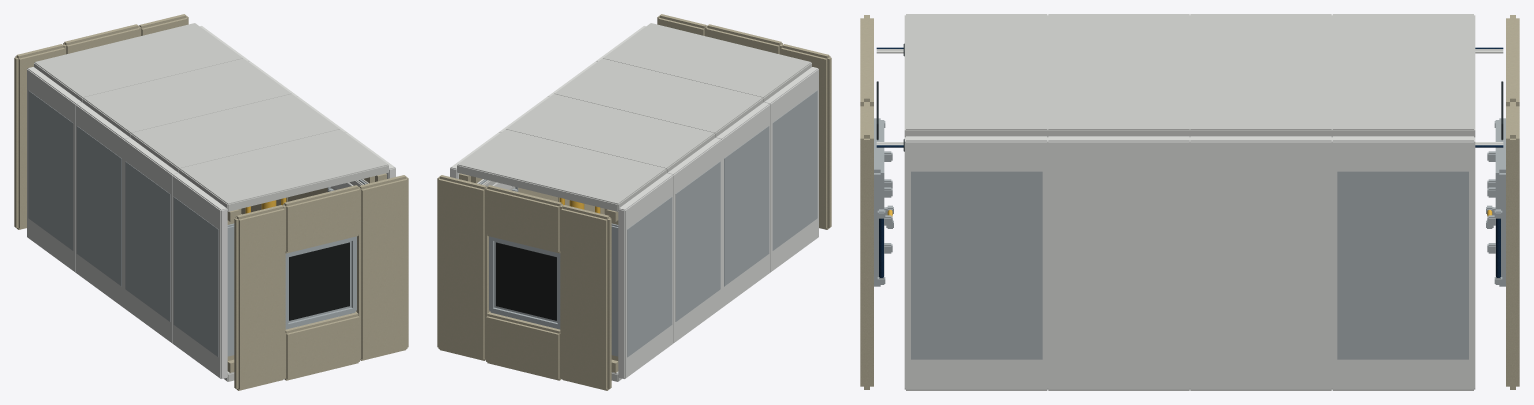
Rendered from tranquility_optimized.glb.
The picture shows the model from 3 angles, left to right: view 1: azimuth 30°, elevation 25°; view 2: azimuth 150°, elevation 25°; view 3: azimuth 270°, elevation 25°; orthographic projection. The views are drawn at different scales.
Parts seen in each view (by area): view 1: tranquility_interior; view 2: tranquility_interior; view 3: tranquility_interior.
Boxes of the visible parts, box(x1,y1,x2,y2) form: tranquility_interior: box(14, 14, 408, 390); tranquility_interior: box(437, 14, 831, 390); tranquility_interior: box(860, 14, 1519, 390).
Bounding box in the file's own units: 3.1 × 3 × 6.84.
Materials: 14 (2 with a texture image).
